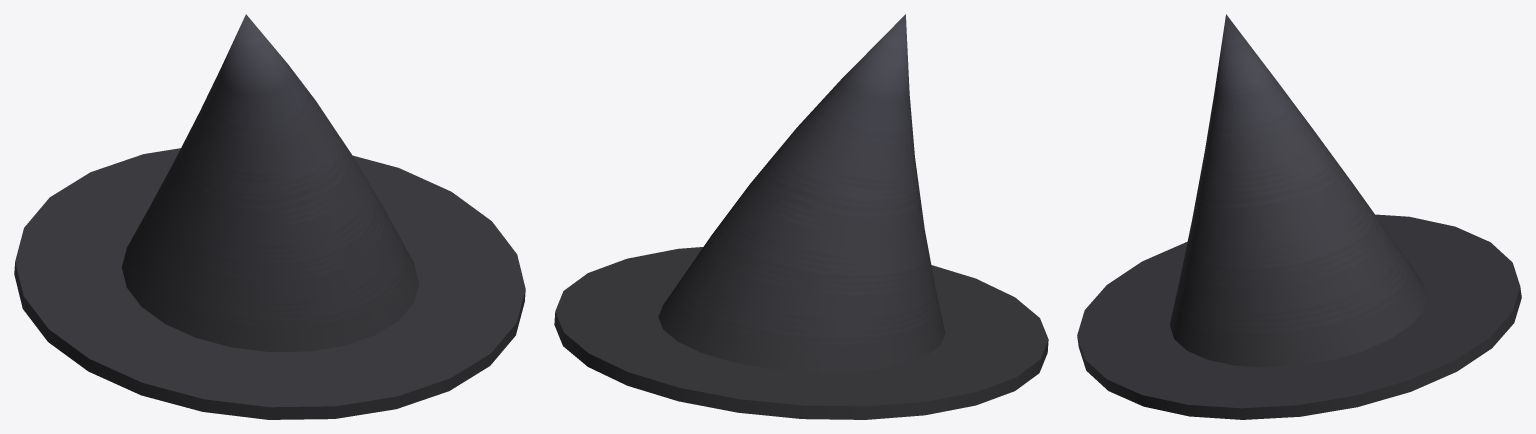
File: Attach_Hat_Witch.fbx
3 renders of one model, left to right at view 1: azimuth 30°, elevation 25°; view 2: azimuth 150°, elevation 25°; view 3: azimuth 270°, elevation 25°, orthographic. The views are drawn at different scales.
Visible parts, largest first — view 1: Attach_Hat_Witch; view 2: Attach_Hat_Witch; view 3: Attach_Hat_Witch.
Boxes of the visible parts, box(x1,y1,x2,y2) form: Attach_Hat_Witch: box(14, 14, 525, 419); Attach_Hat_Witch: box(554, 14, 1048, 419); Attach_Hat_Witch: box(1077, 14, 1521, 419).
Bounding box in the file's own units: 1.72 × 1.71 × 1.29.
